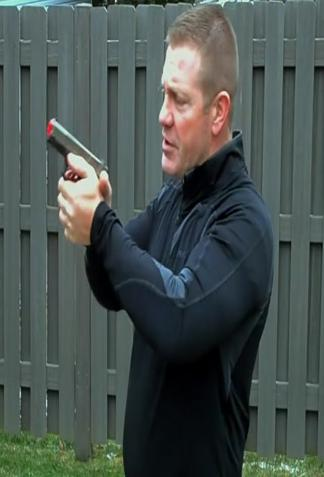pistol: (41, 113, 116, 245)
